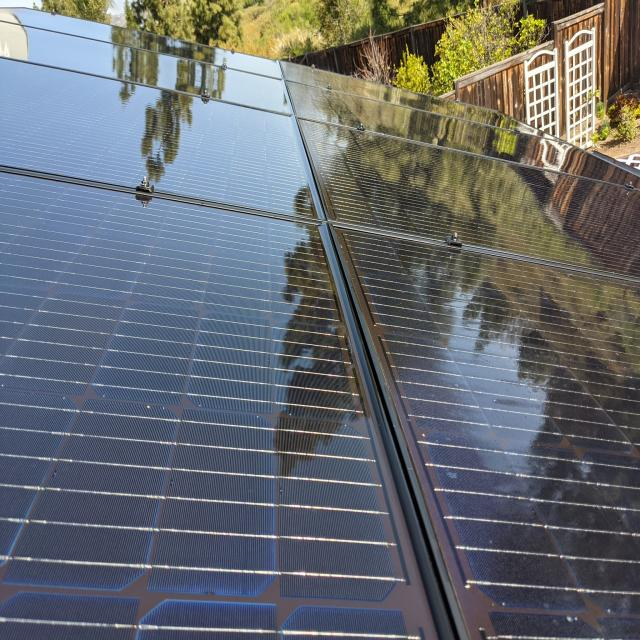clean-solar-panel: (5, 400, 176, 590)
